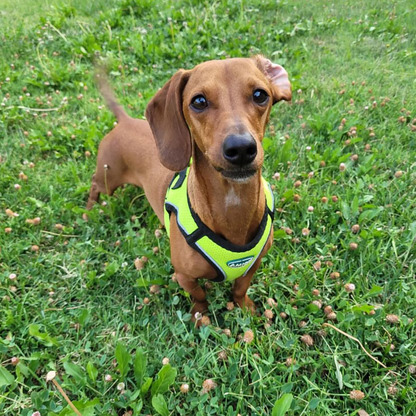dachshund: (61, 49, 339, 314)
